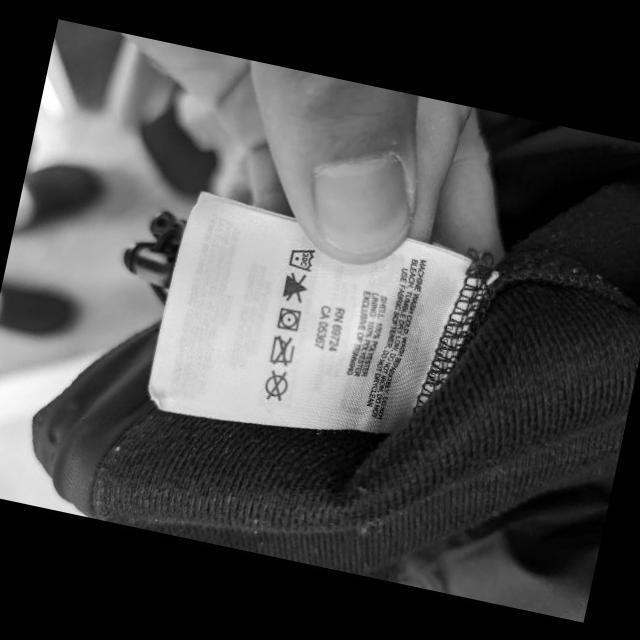30C: (284, 242, 318, 273)
DN_bleach: (278, 268, 311, 306)
DN_dry_clean: (259, 366, 292, 404)
DN_iron: (264, 330, 300, 370)
tumble_dry_low: (274, 305, 304, 334)
